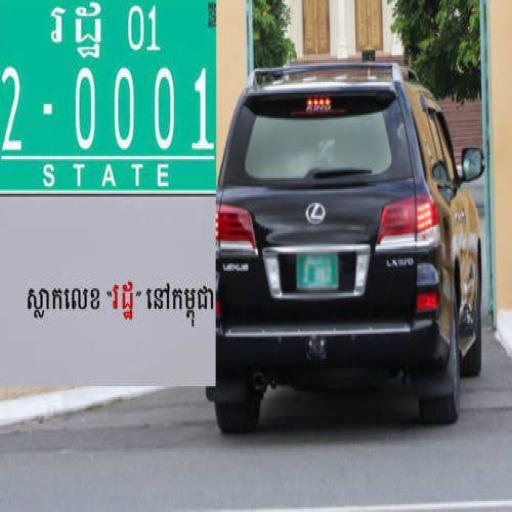Plate Number: (0, 0, 218, 196), (296, 250, 340, 290)
